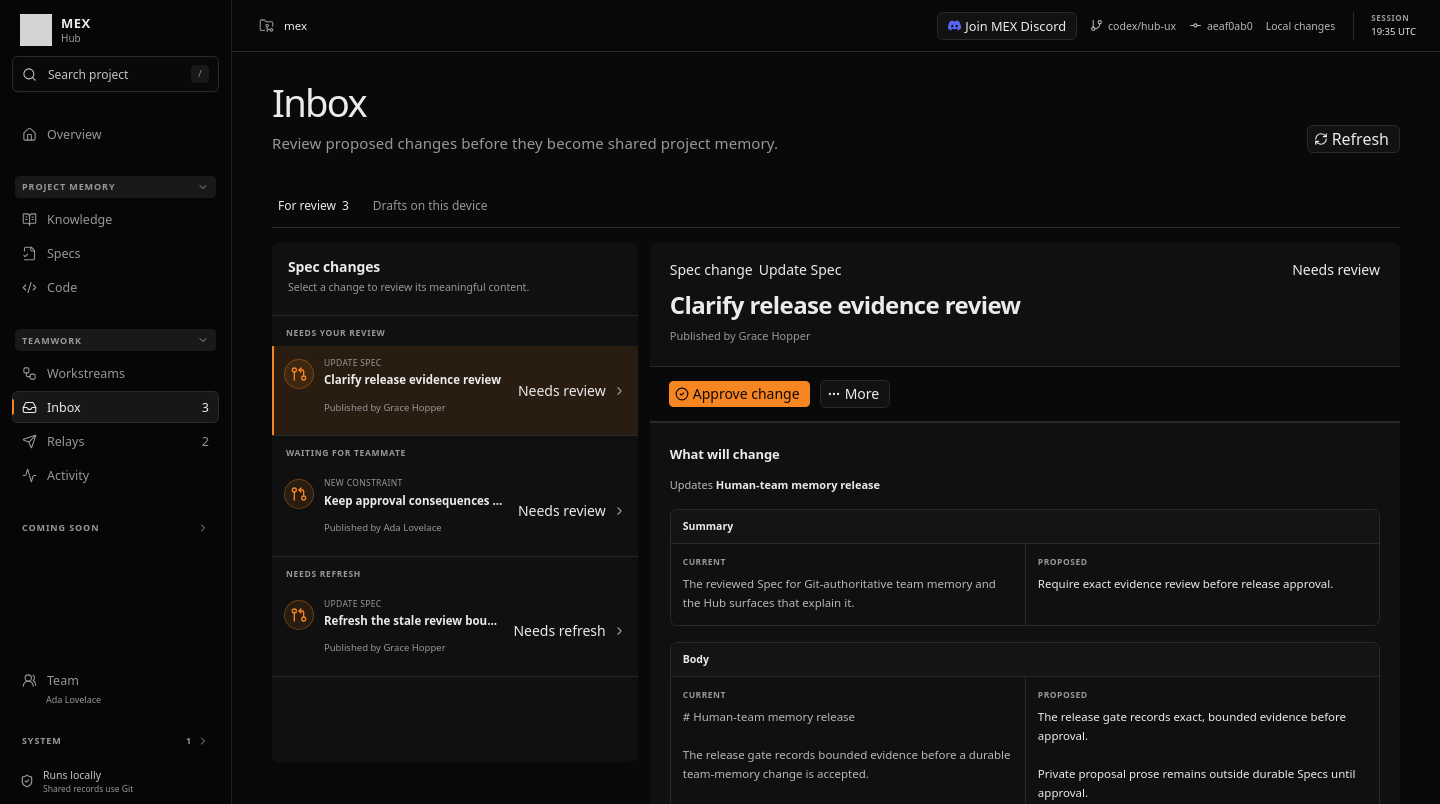
Test: Inbox Spec-authoring workbench › drops cached authorship grouping when a current-actor refresh fails
This screenshot has width=1440, height=804.
Expected: the heading "Needs your review" is shown, [286,327,386,338]
Expected: the heading "Waiting for teammate" is shown, [286,447,406,458]
Click the button "Refresh" at (1353, 139), box [1307,125,1400,153]
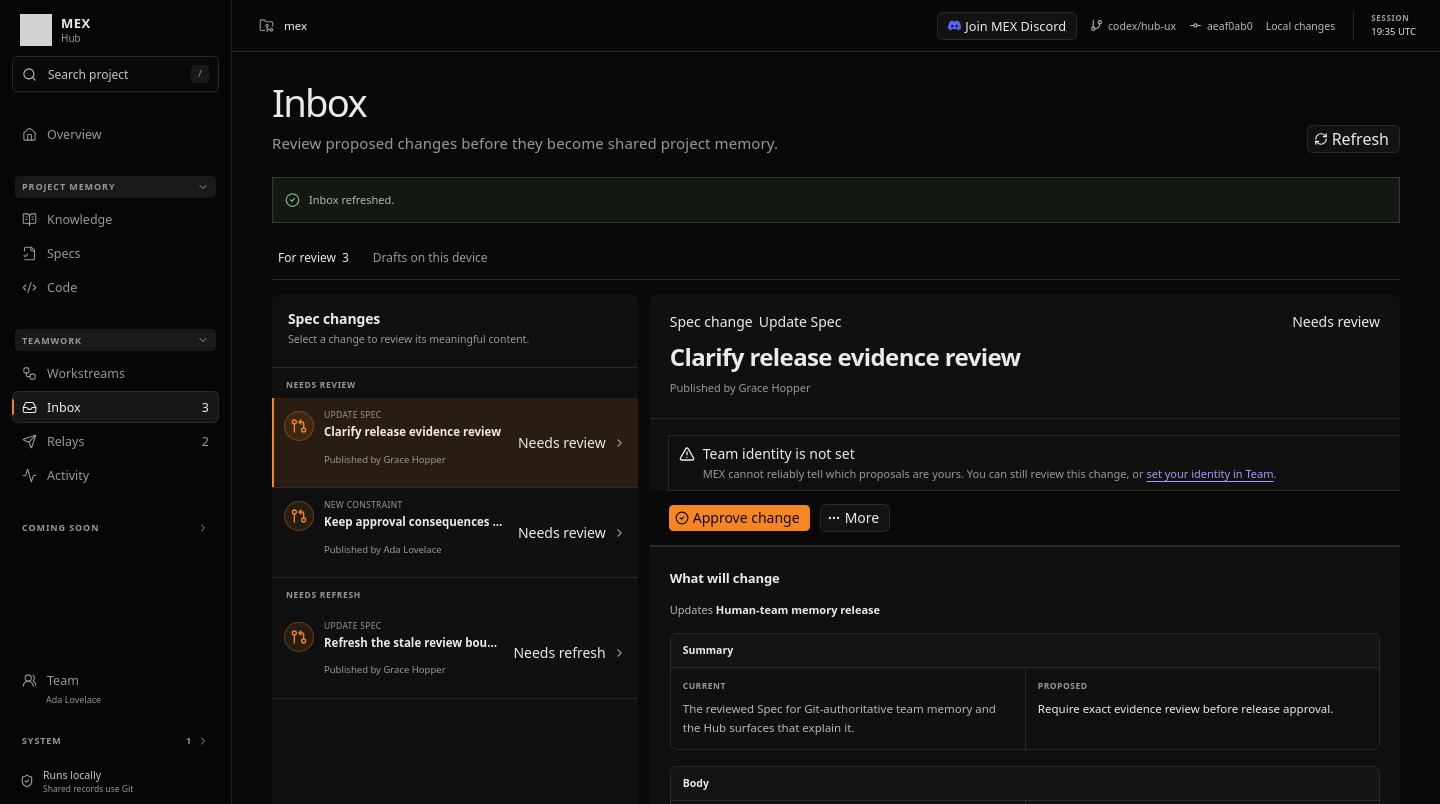
Result: the heading "Needs review" is shown at [286,379,356,390]
Result: the heading "Needs your review" is gone
Result: the heading "Waiting for teammate" is gone
